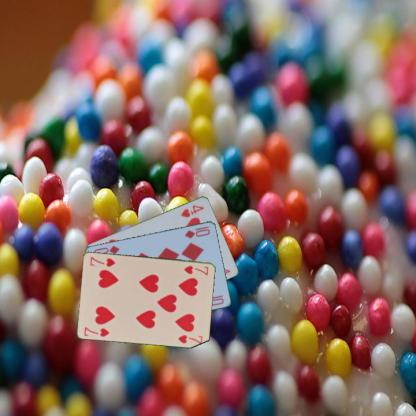10d: (182, 224, 211, 239)
4h: (177, 203, 205, 219)
7h: (181, 263, 210, 277), (82, 324, 111, 338)
